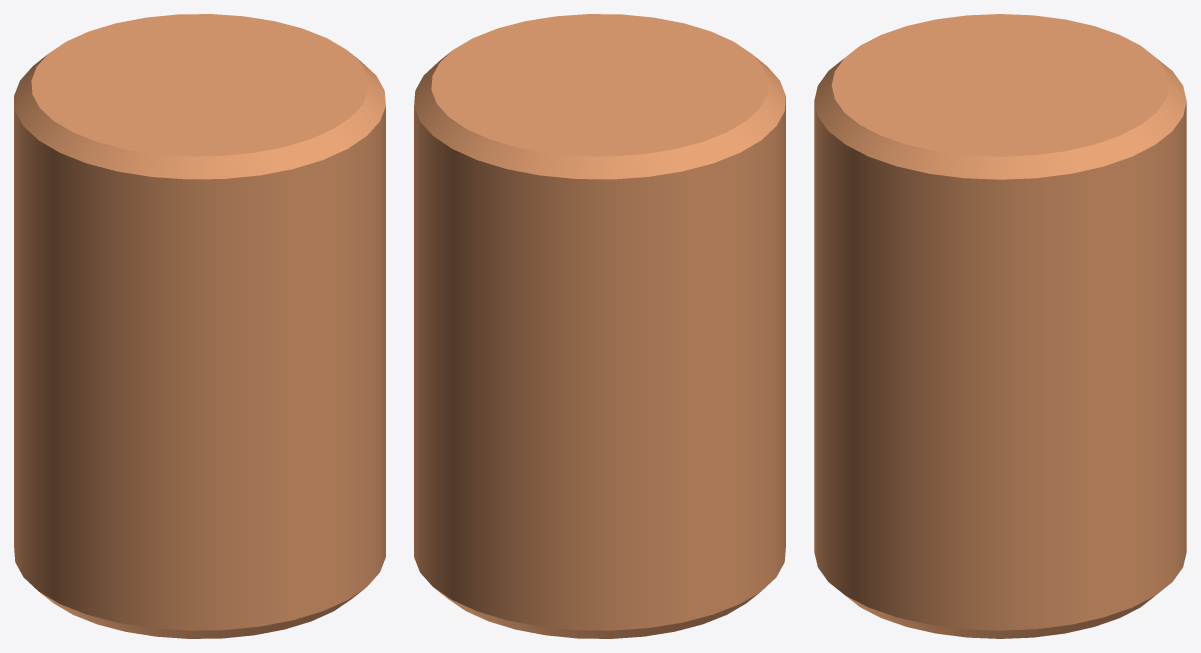
File: axle_01.gltf
3 renders of one model, left to right at view 1: azimuth 30°, elevation 25°; view 2: azimuth 150°, elevation 25°; view 3: azimuth 270°, elevation 25°, orthographic.
Parts seen in each view (by area): view 1: Axle01; view 2: Axle01; view 3: Axle01.
Boxes of the visible parts, x1,y1,x2,y2 form: Axle01: (14,14,385,638); Axle01: (414,14,785,638); Axle01: (814,14,1186,638).
Bounding box in the file's own units: 1.4 × 2 × 1.4.
